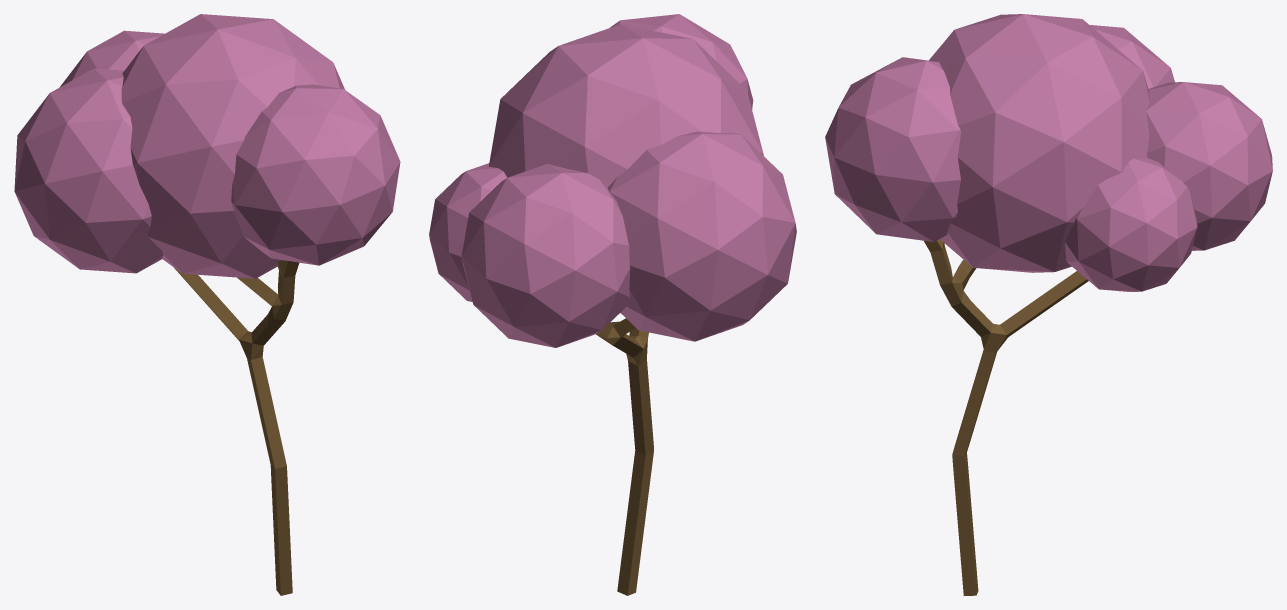
Rendered from Tree2.fbx.
3 renders of one model, left to right at view 1: azimuth 30°, elevation 25°; view 2: azimuth 150°, elevation 25°; view 3: azimuth 270°, elevation 25°, orthographic. The views are drawn at different scales.
Parts seen in each view (by area): view 1: Big Tree; view 2: Big Tree; view 3: Big Tree.
Part boxes in pixels (bbox=[...]): Big Tree: bbox=[14, 14, 400, 595]; Big Tree: bbox=[429, 14, 796, 595]; Big Tree: bbox=[825, 14, 1272, 595].
Size of the model in its own units: 141 by 248 by 180.
